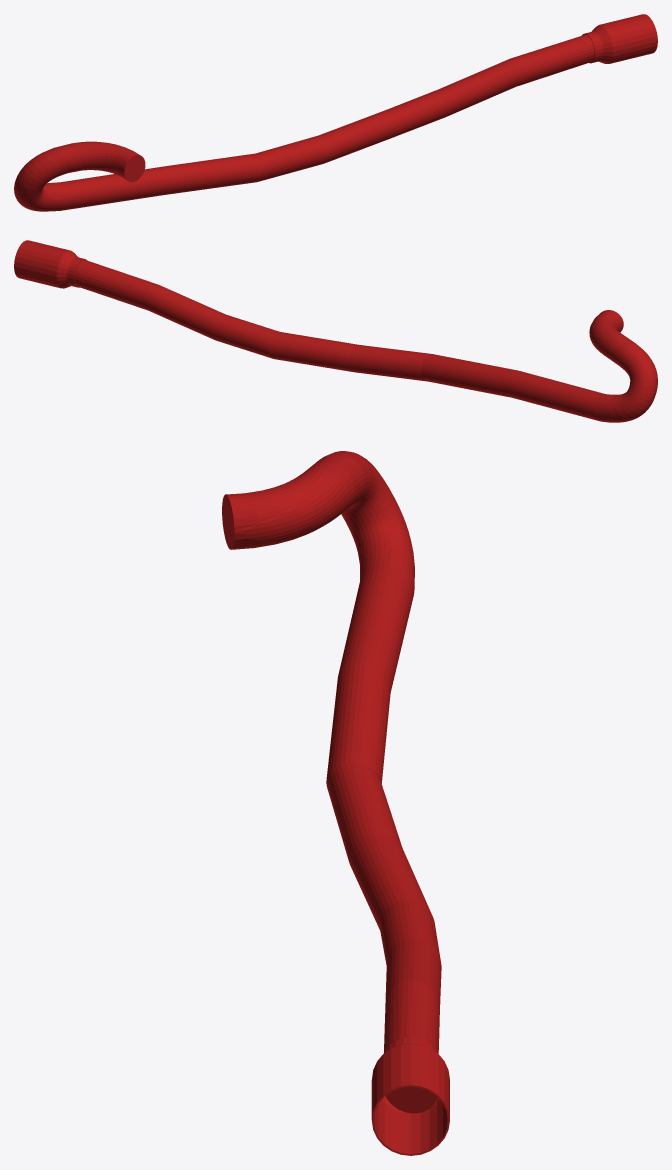
The model's file is tattu_4500_mah_XT90pos_cable_XT90pos_cable.obj.
3 renders of one model, top to bottom at view 1: azimuth 30°, elevation 25°; view 2: azimuth 150°, elevation 25°; view 3: azimuth 270°, elevation 25°, orthographic. The views are drawn at different scales.
Bounding box in the file's own units: 0.0769 × 0.0105 × 0.0122.
